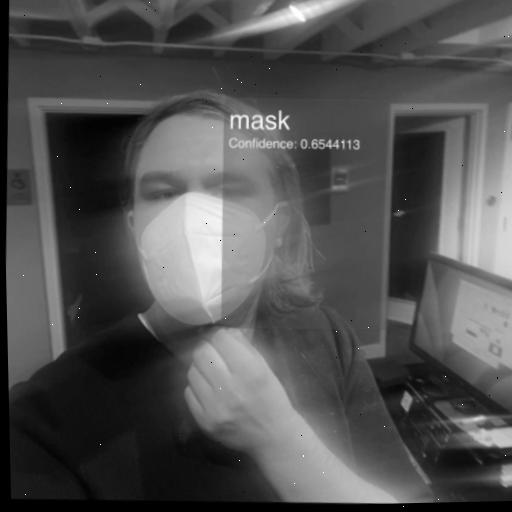mask: (104, 60, 330, 343)
